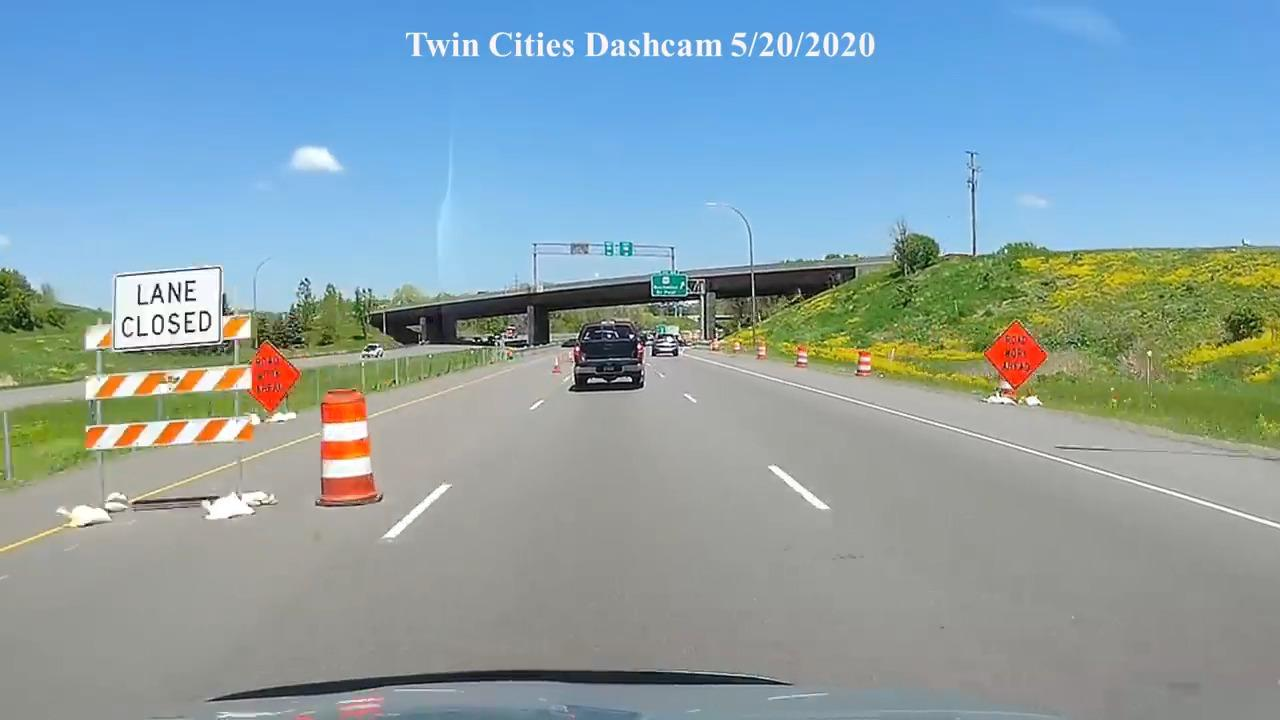car: (571, 320, 647, 391), (361, 344, 384, 359)
traffic cone: (314, 388, 384, 507), (854, 350, 873, 377), (794, 346, 809, 369), (551, 354, 561, 377), (756, 341, 767, 360)
